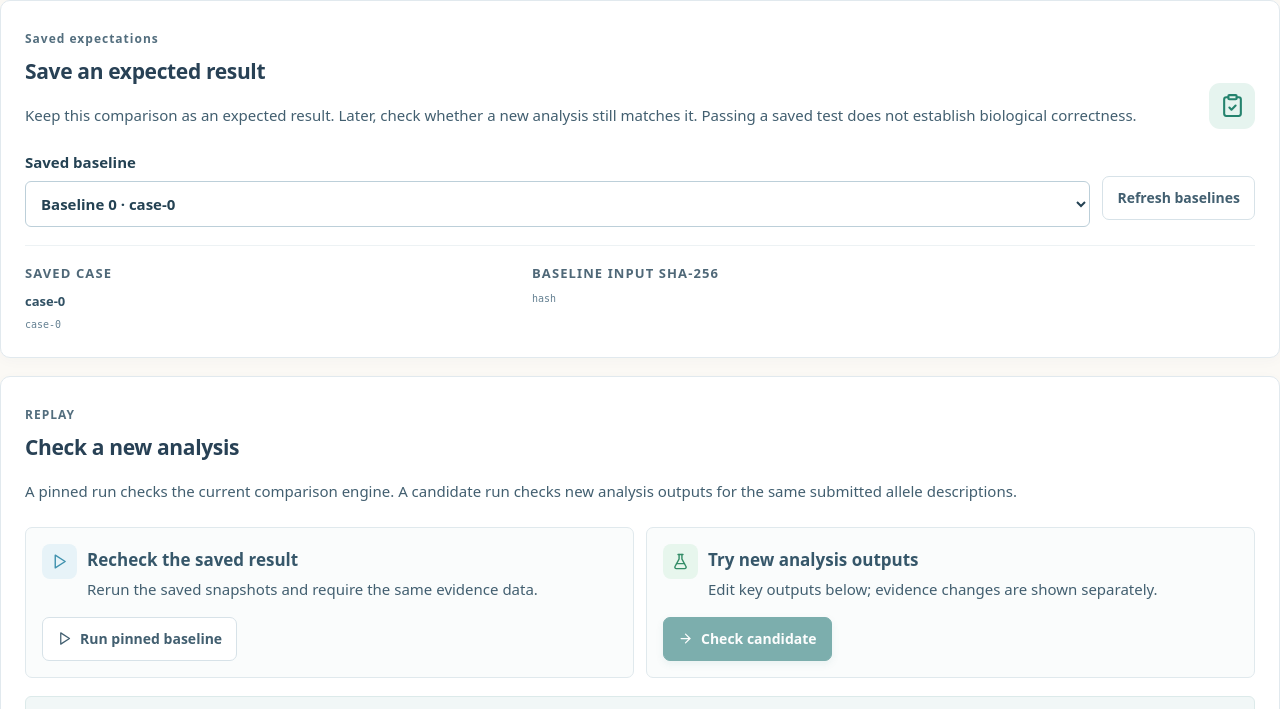
Scenario: every baseline remains selectable beyond the first discovery page
Select "Oldest baseline · oldest" in the dropdown labelled "Saved baseline" at point(558, 204), box x1=25 y1=181 x2=1090 y2=227
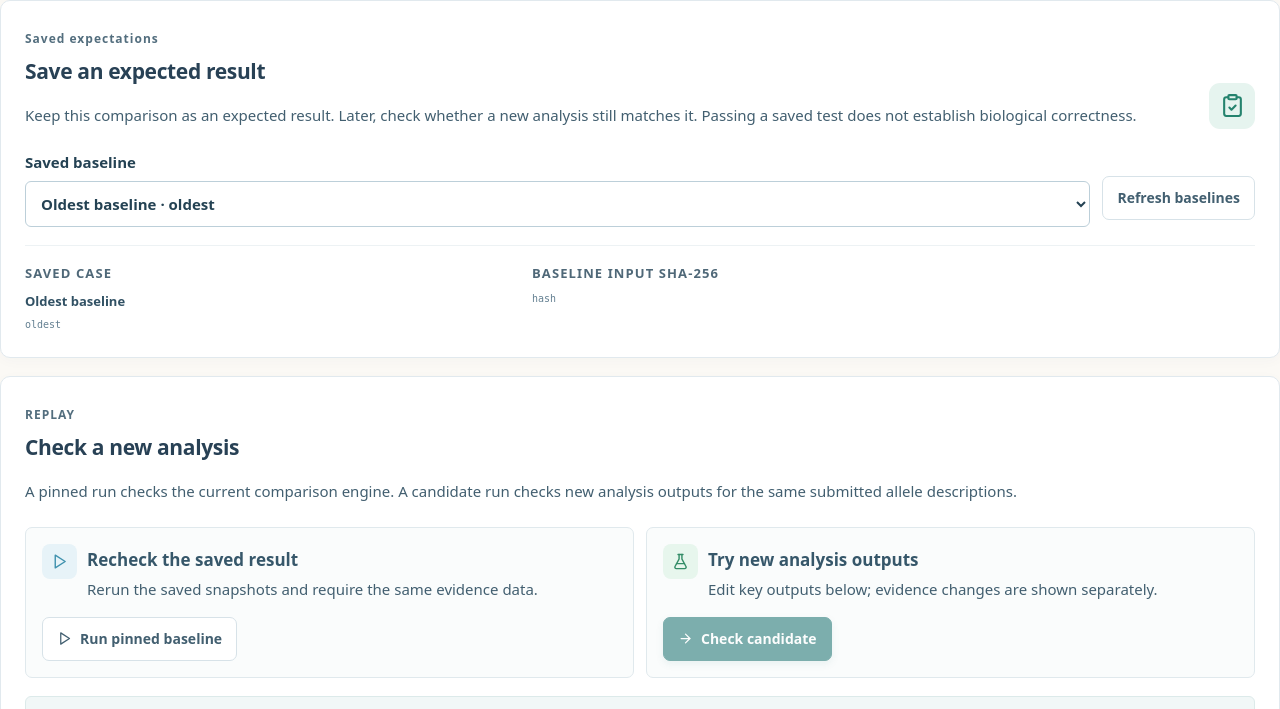
expect the element with class "case-record" shows "Oldest baseline": met, box x1=25 y1=292 x2=125 y2=310
